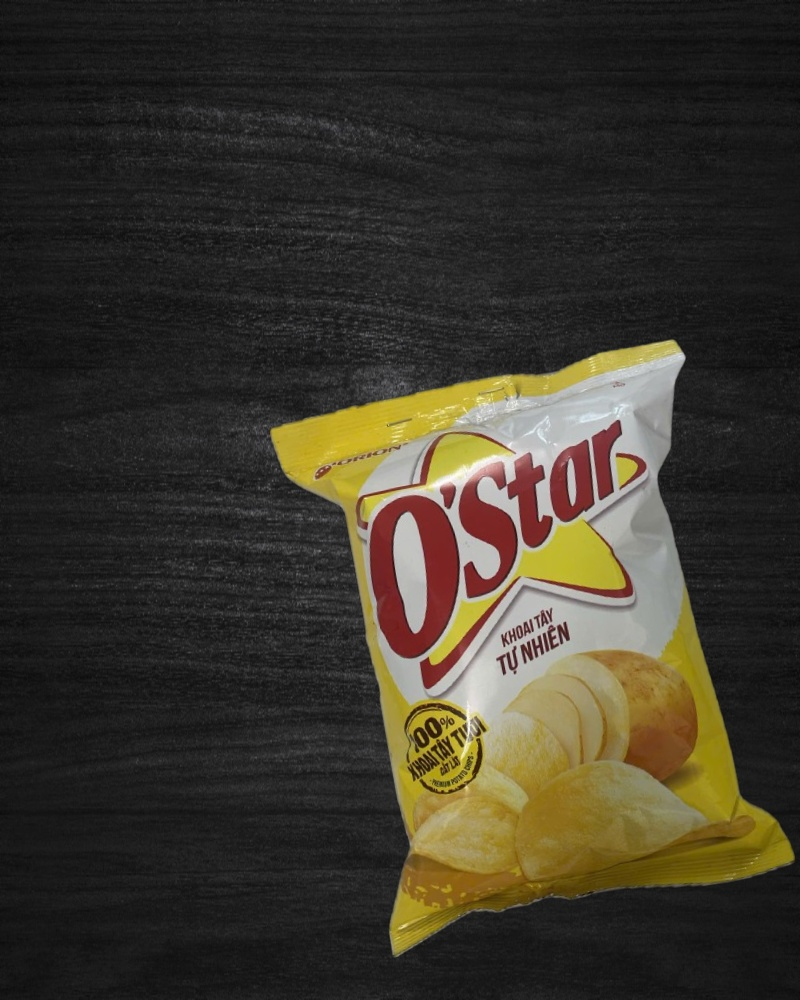O'star: (268, 334, 800, 963)
